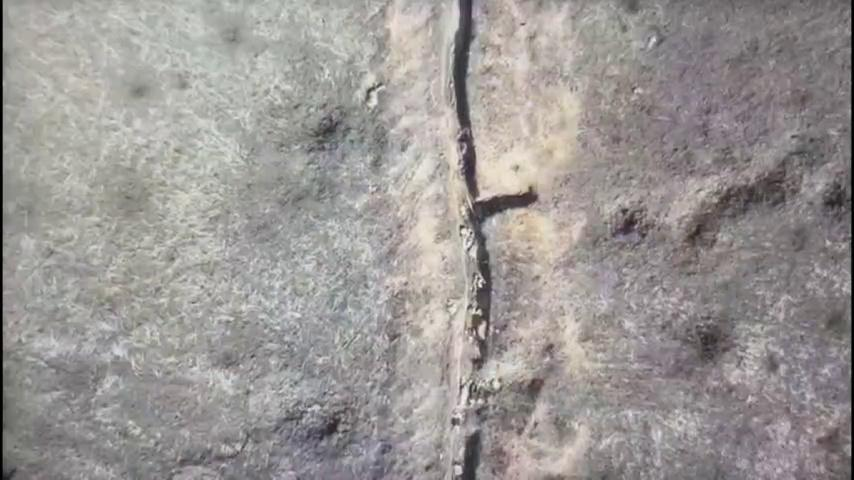person: (458, 225, 481, 262), (456, 124, 470, 179)
trench: (440, 0, 536, 480)
